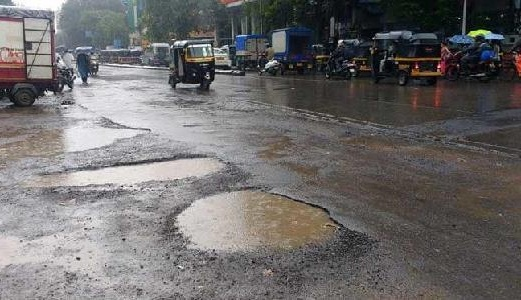pothole: (164, 183, 349, 255), (35, 151, 229, 188), (0, 123, 152, 161)
